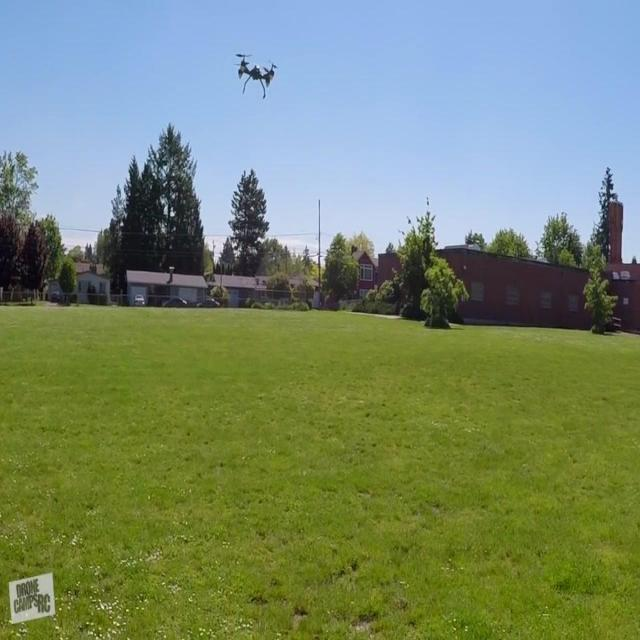UAV: (233, 54, 279, 100)
